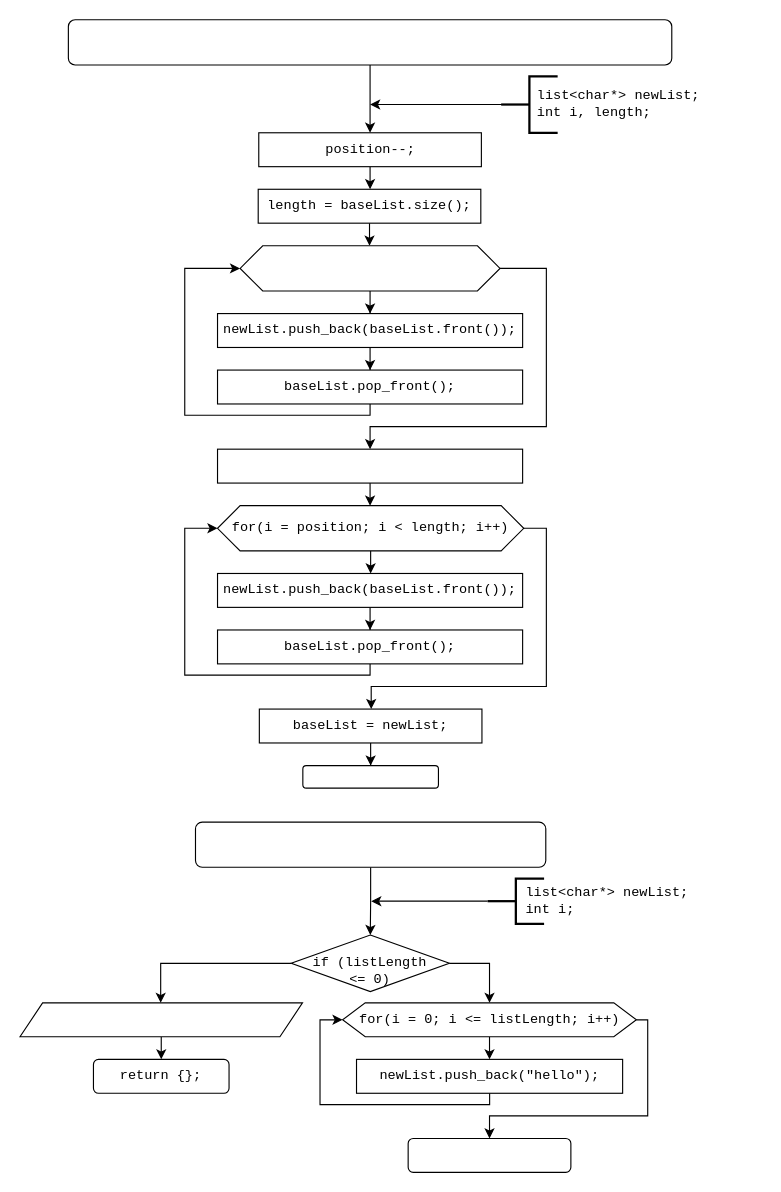
The diagram is 781 pixels wide and 1192 high, and some of its shapes have lost their labels. Here are the shapes that lost their labels. From the top down, the box of each, then its label:
(67, 19, 672, 65): void AddNewItem(list<char*>& baseList, char* value, int position)
(239, 245, 500, 291): for(i = 0; i < position; i++)
(216, 448, 523, 483): newList.push_back(value);
(194, 821, 546, 867): list<char*> NewList(int listLength)
(19, 1002, 303, 1037): cout << LENGTH_ERROR << endl;
(407, 1137, 571, 1172): return newList;
